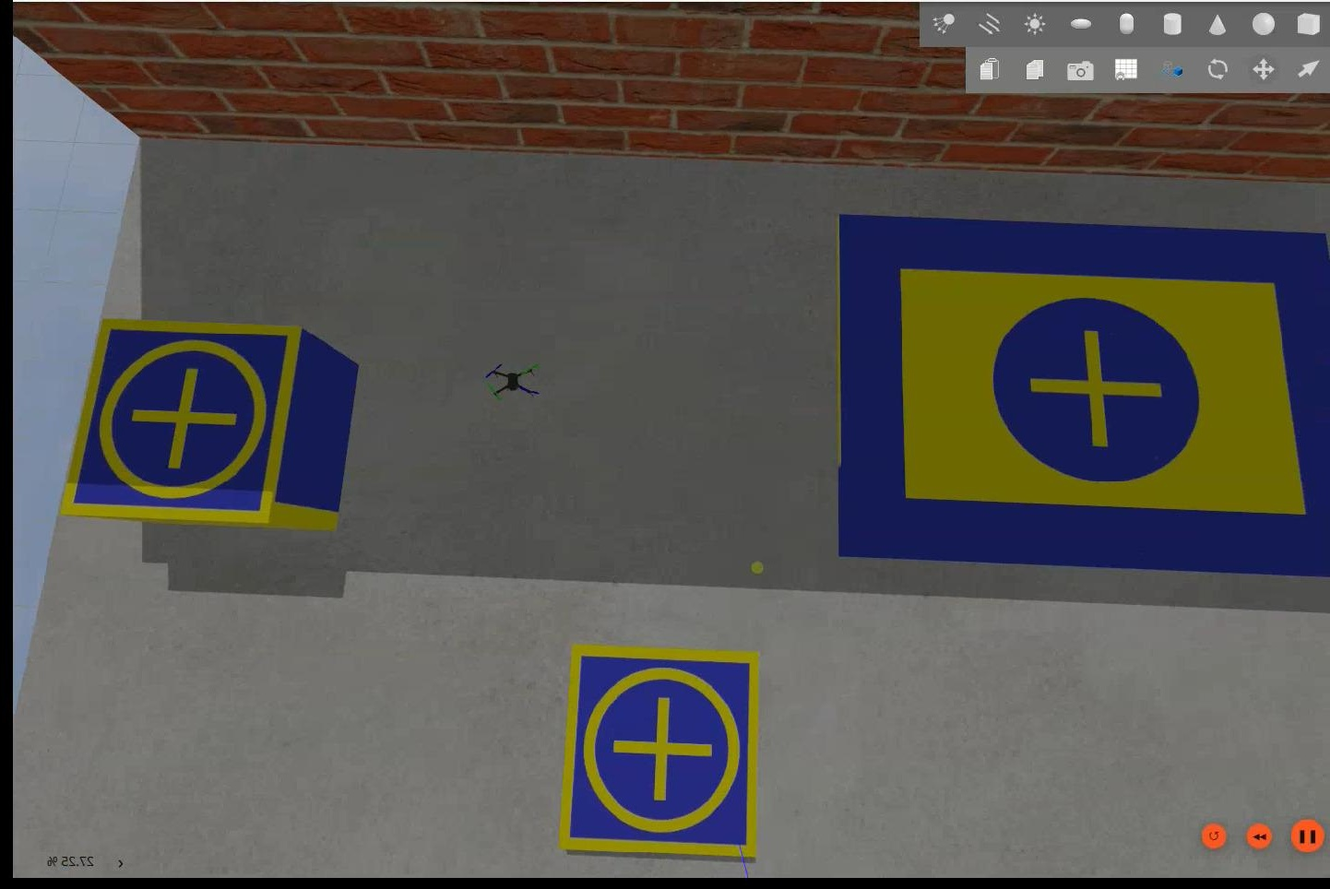large_base: (839, 213, 1328, 573)
small_base: (54, 323, 300, 525), (558, 646, 757, 859)
